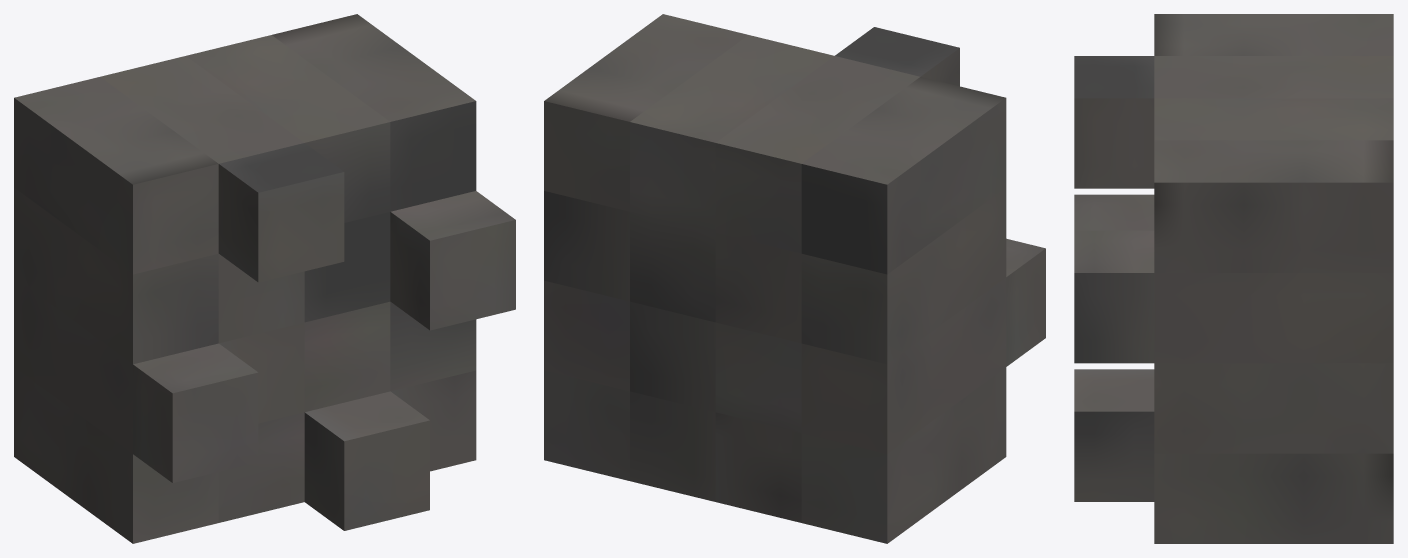
File: rotator.obj
3 renders of one model, left to right at view 1: azimuth 30°, elevation 25°; view 2: azimuth 150°, elevation 25°; view 3: azimuth 270°, elevation 25°, orthographic.
Visible parts, largest first — view 1: rotator; view 2: rotator; view 3: rotator.
Boxes of the visible parts, x1,y1,x2,y2 form: rotator: (14,14,515,543); rotator: (544,14,1045,543); rotator: (1074,14,1393,543).
Size of the model in its own units: 0.5 by 0.5 by 0.4.
